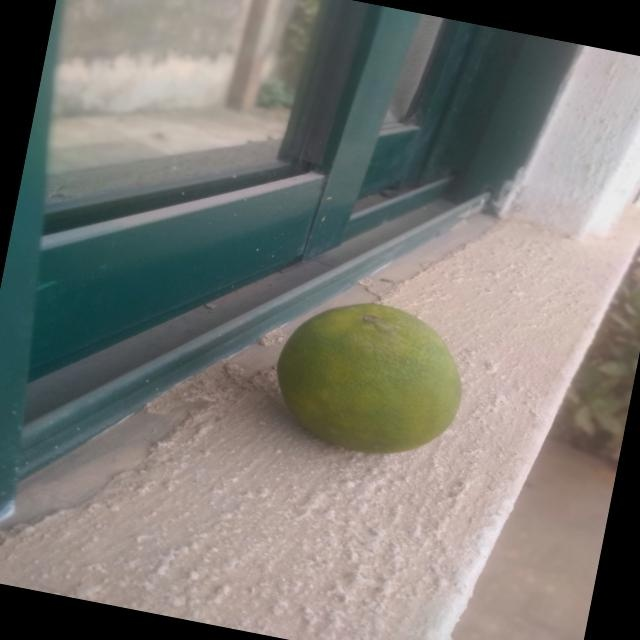agrume: (224, 263, 512, 512)
